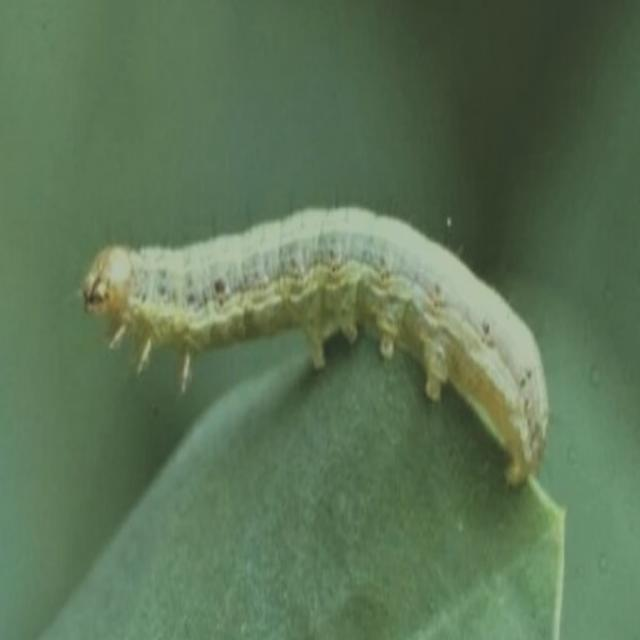armyworm: (79, 202, 550, 490)
